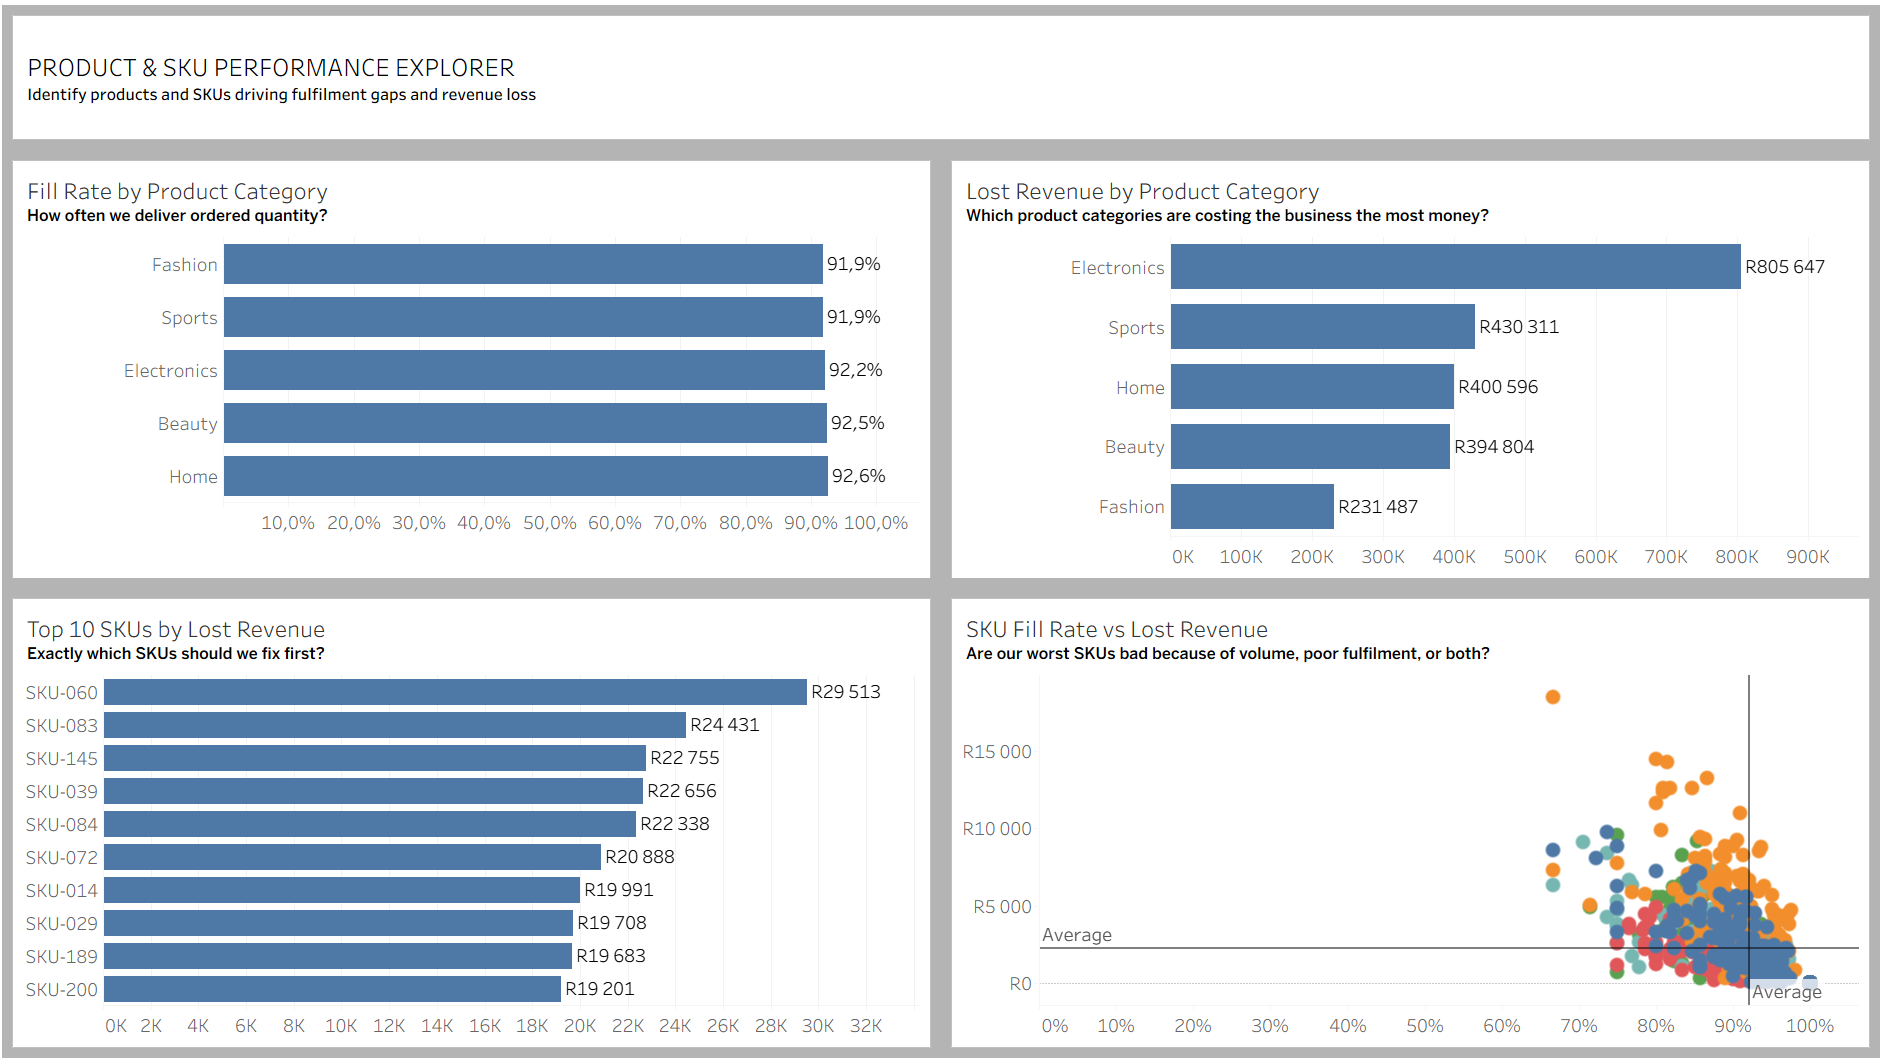

This screenshot's page, from the dashboard's own definition file:
{"tool":"tableau","page":{"name":"Product & SKU Performance Explorer","canvas":[1000,1000],"units":"permille","ordinal":2},"visuals":[{"type":"text","box":[13.1,23.4,973.8,130.9]},{"type":"worksheet","title":"Fill Rate by Product Category","mark":"Bar","rows":["product_category"],"cols":["vtavg"],"box":[13.1,154.3,486.8,396.9]},{"type":"worksheet","title":"Lost Revenue by Product Category","mark":"Bar","rows":["product_category"],"cols":["lost_revenue_est"],"box":[499.9,154.3,487,396.9]},{"type":"worksheet","title":"Top 10 SKUs by Lost Revenue","mark":"Bar","rows":["sku"],"cols":["lost_revenue_est"],"box":[13.1,551.2,486.8,425.3]},{"type":"worksheet","title":"SKU Fill Rate vs Lost Revenue","mark":"Circle","rows":["lost_revenue_est"],"cols":["vtavg"],"box":[499.9,551.2,487,425.3]}]}

Visuals, with their boxes on the dashboard's canvas, which has no fixed pixel size, in thousandths of its width and height (x1, y1, x2, y2). These are canvas units, not pixel positions in the 1882x1060 screenshot, which may show the page scaled, cropped or inside an application window:
text: x1=13, y1=23, x2=987, y2=154
"Fill Rate by Product Category" worksheet (Bar marks): x1=13, y1=154, x2=500, y2=551
"Lost Revenue by Product Category" worksheet (Bar marks): x1=500, y1=154, x2=987, y2=551
"Top 10 SKUs by Lost Revenue" worksheet (Bar marks): x1=13, y1=551, x2=500, y2=976
"SKU Fill Rate vs Lost Revenue" worksheet (Circle marks): x1=500, y1=551, x2=987, y2=976
